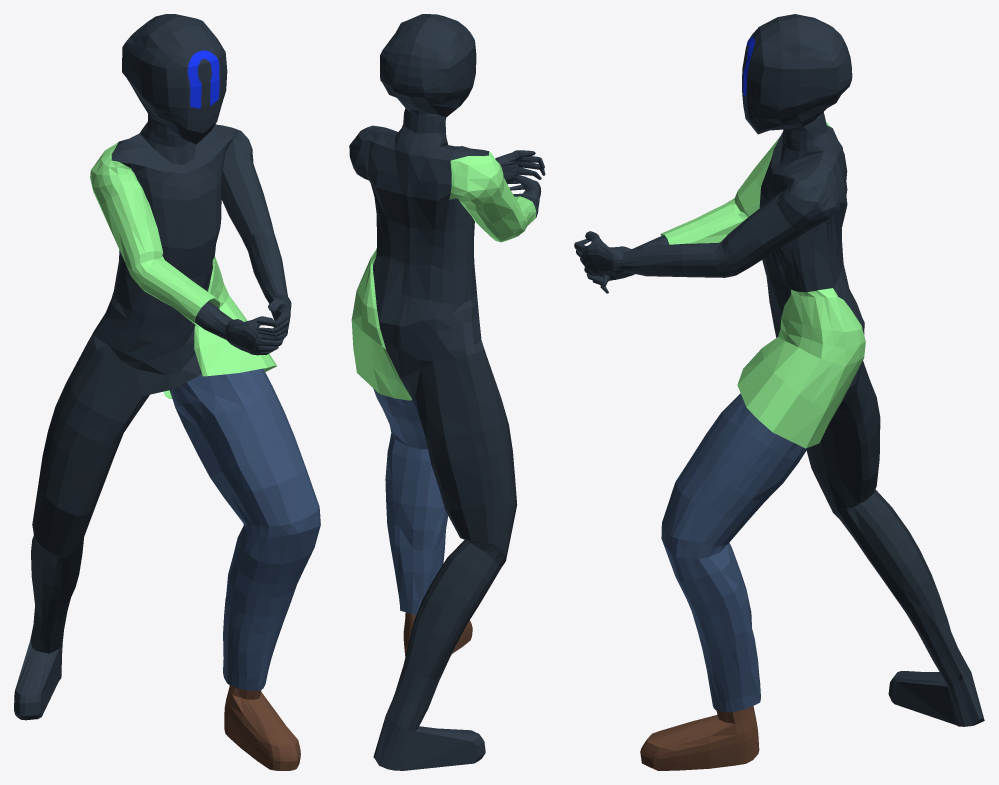
File: Mar_WF_000029.obj
3 renders of one model, left to right at view 1: azimuth 30°, elevation 25°; view 2: azimuth 150°, elevation 25°; view 3: azimuth 270°, elevation 25°, orthographic. The views are drawn at different scales.
Visible parts, largest first — view 1: Cube.000_Cube.001; view 2: Cube.000_Cube.001; view 3: Cube.000_Cube.001.
Boxes of the visible parts, x1,y1,x2,y2 form: Cube.000_Cube.001: (14, 14, 320, 770); Cube.000_Cube.001: (349, 14, 545, 770); Cube.000_Cube.001: (574, 14, 984, 770).
Bounding box in the file's own units: 1.09 × 3.72 × 1.89.
